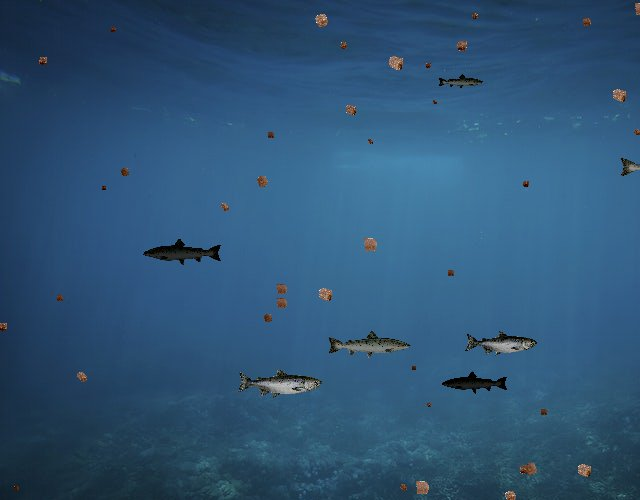Fish: (326, 329, 412, 360), (236, 368, 322, 399), (143, 238, 224, 267), (464, 331, 537, 357), (442, 370, 510, 394), (438, 74, 485, 91)
Pellet: (518, 456, 544, 482), (70, 366, 92, 388), (498, 484, 523, 500), (577, 12, 596, 31), (518, 177, 532, 191), (422, 59, 435, 72), (107, 23, 119, 35)
